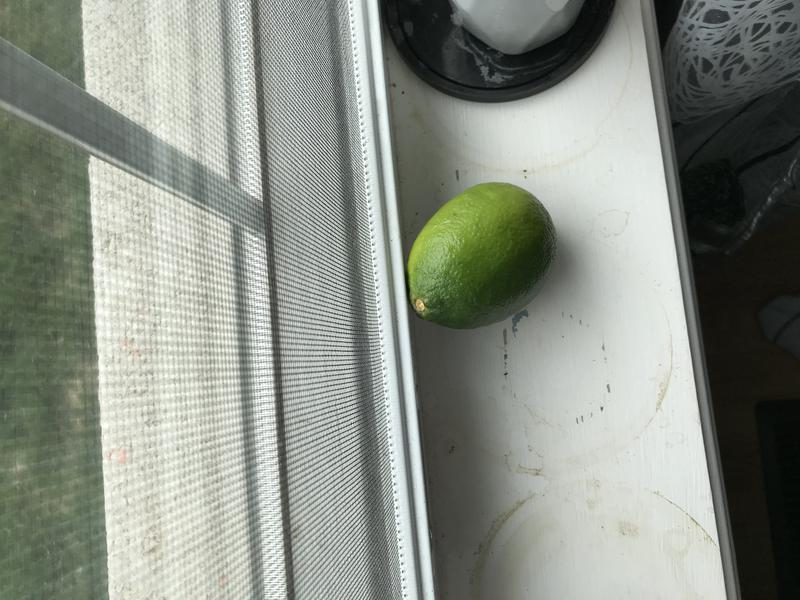lime: (395, 169, 566, 342)
